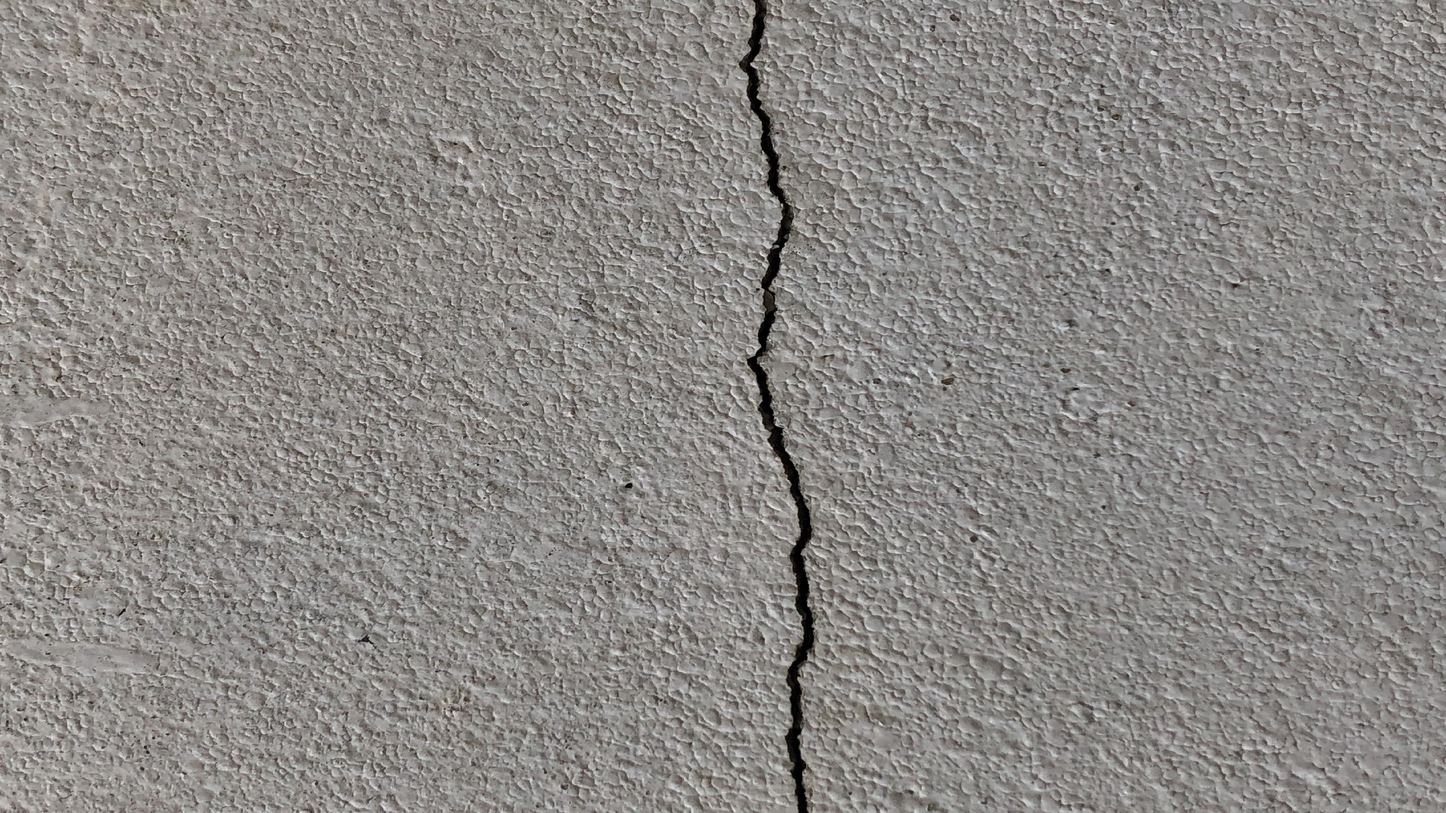crack: (734, 0, 821, 806)
